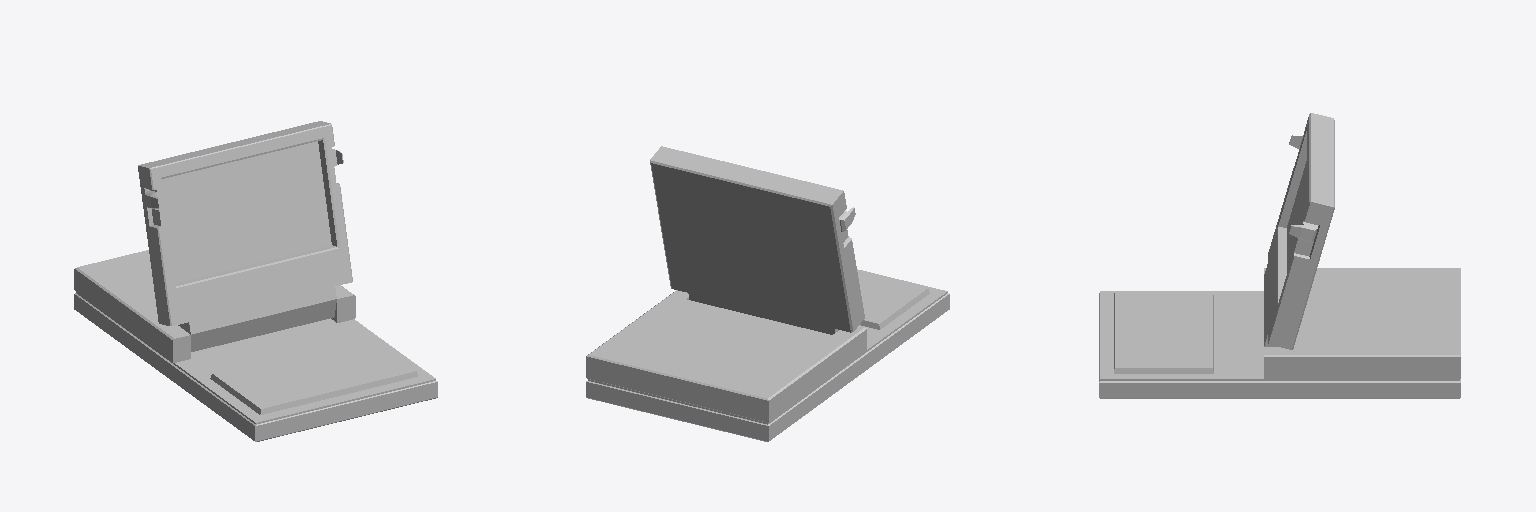
File: A-CM_X360_PROP_Laptop_Default.obj
The picture shows the model from 3 angles: view 1: azimuth 30°, elevation 25°; view 2: azimuth 150°, elevation 25°; view 3: azimuth 270°, elevation 25°; orthographic projection.
Bounding box in the file's own units: 0.3603 × 0.3618 × 0.6.